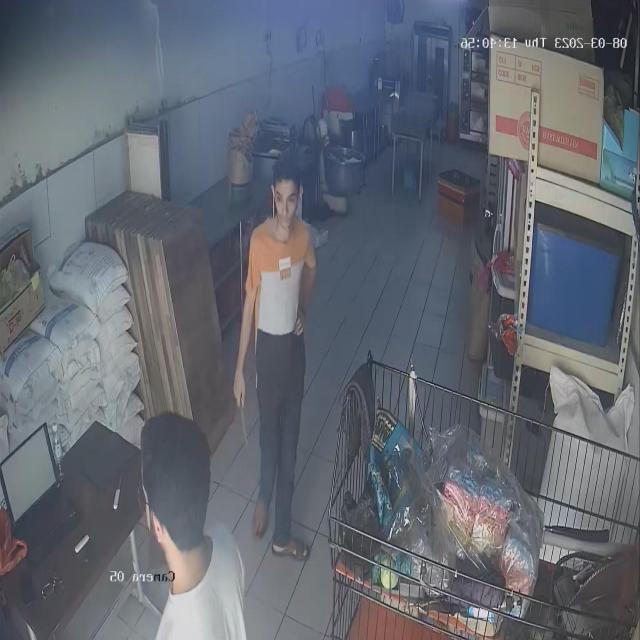Knife: (231, 392, 252, 453)
